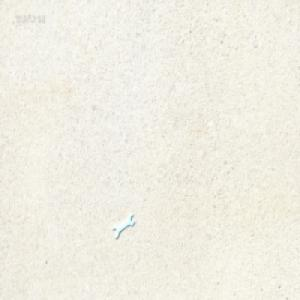Wrench: (112, 214, 134, 240)
